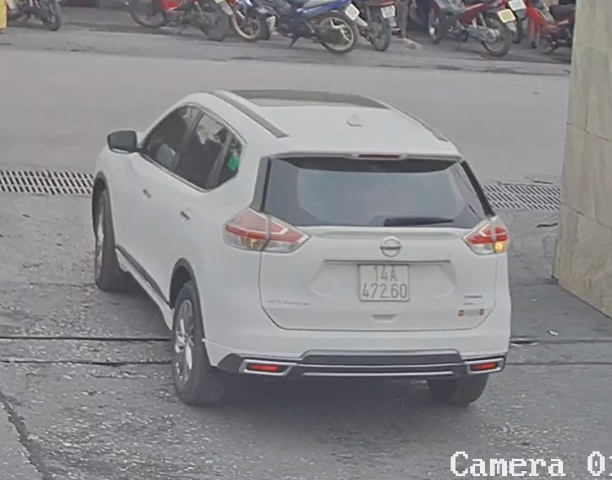vehicle plate: (357, 256, 414, 301)
